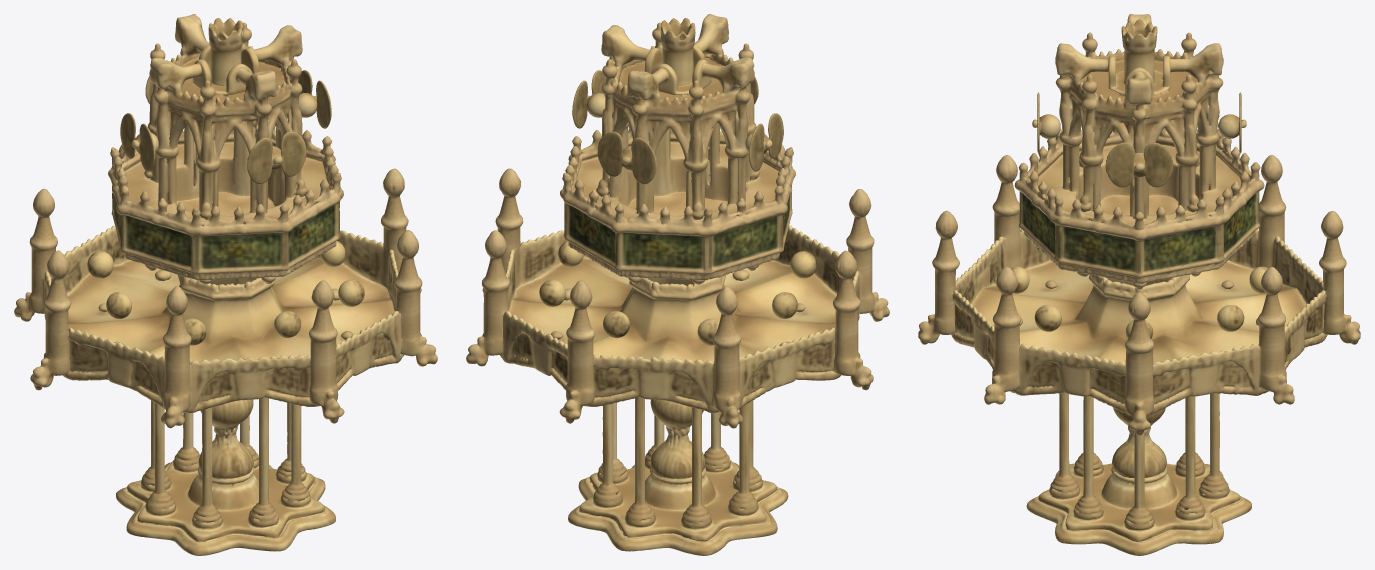
The model's file is 01_fountain_symtrellis.glb.
3 renders of one model, left to right at view 1: azimuth 30°, elevation 25°; view 2: azimuth 150°, elevation 25°; view 3: azimuth 270°, elevation 25°, orthographic.
Parts seen in each view (by area): view 1: world; view 2: world; view 3: world.
Boxes of the visible parts, left/top/right/bottom form: world: left=14, top=14, right=437, bottom=555; world: left=466, top=14, right=889, bottom=555; world: left=918, top=14, right=1360, bottom=555.
Size of the model in its own units: 0.8341 by 1 by 0.8342.
1 material, 1 textured.
